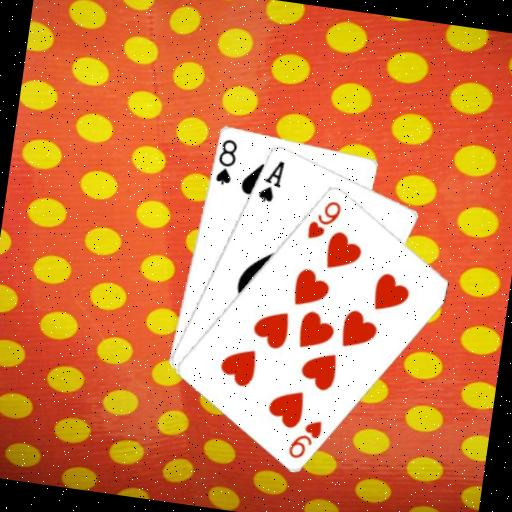8S: (211, 135, 240, 188)
9H: (304, 194, 345, 244), (284, 413, 325, 463)
AS: (255, 154, 288, 205)
